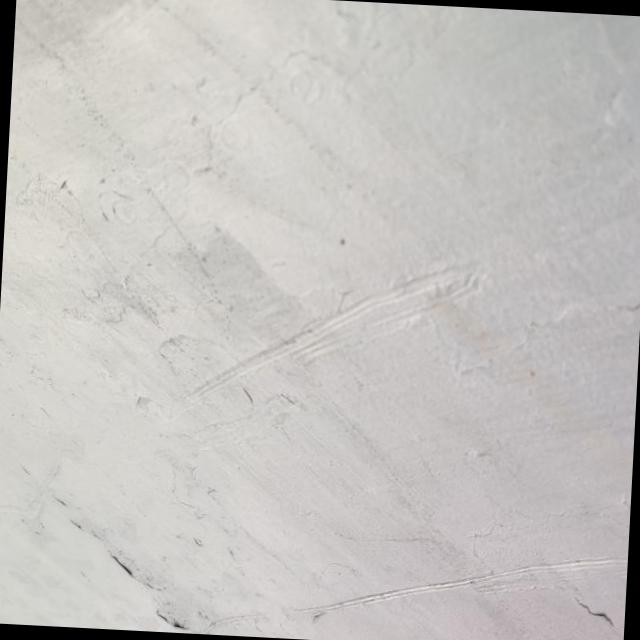Scratch: (186, 266, 487, 402), (294, 558, 627, 640)
